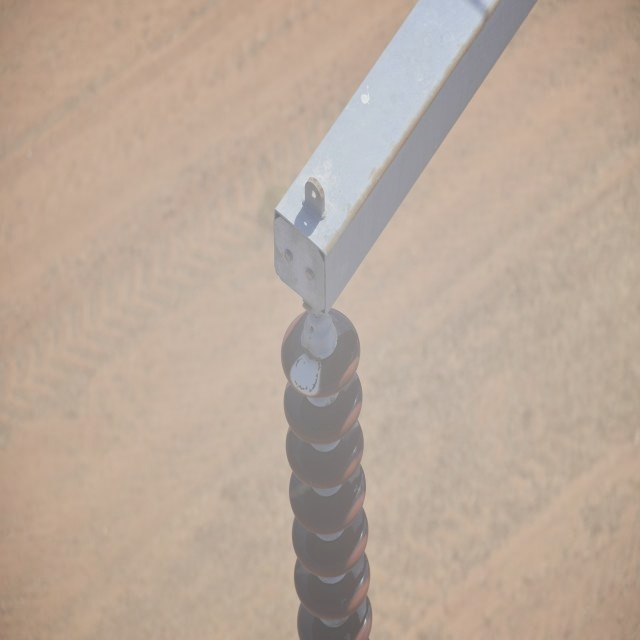insulator: (282, 309, 373, 639)
